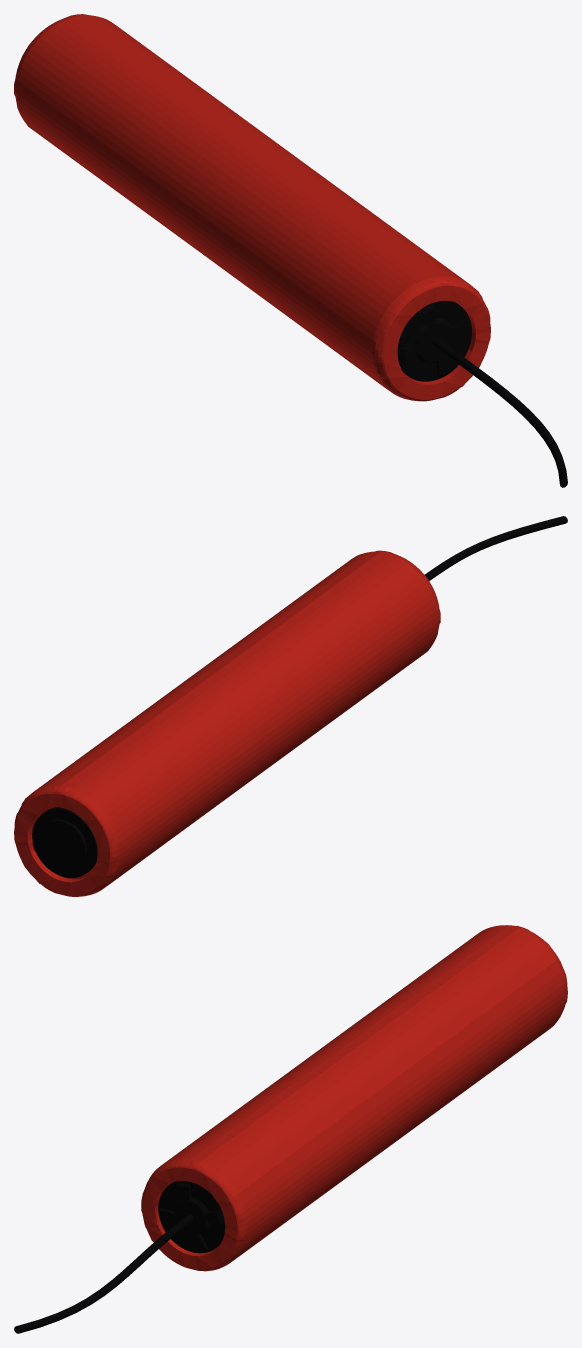
Rendered from single_dynamite.fbx.
3 views of the same model, one above another, from view 1: azimuth 30°, elevation 25°; view 2: azimuth 150°, elevation 25°; view 3: azimuth 330°, elevation 25° (orthographic). The views are drawn at different scales.
Visible parts, largest first — view 1: Cylinder.033, Cylinder.034, BezierCurve.008; view 2: Cylinder.033, Cylinder.035, BezierCurve.008; view 3: Cylinder.033, Cylinder.034, BezierCurve.008.
Part boxes in pixels (x1,y1,x2,y2): Cylinder.033: (14,14,490,401); Cylinder.034: (397,300,471,381); BezierCurve.008: (432,338,567,487); Cylinder.033: (14,550,440,896); Cylinder.035: (32,807,97,877); BezierCurve.008: (425,516,567,580); Cylinder.033: (141,925,567,1271); Cylinder.034: (158,1181,225,1253); BezierCurve.008: (14,1214,193,1333).
Size of the model in its own units: 77.99 by 78.26 by 618.
